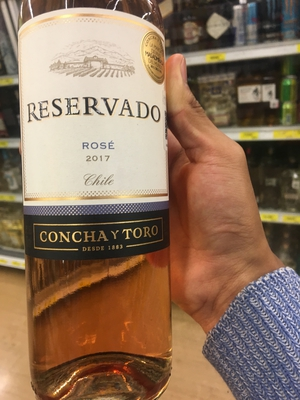reservado rose: (16, 7, 170, 400)
